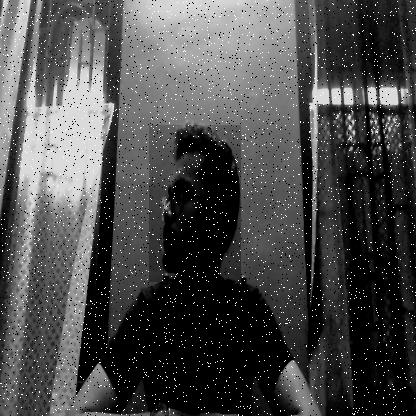Distracted: (149, 125, 241, 282)
